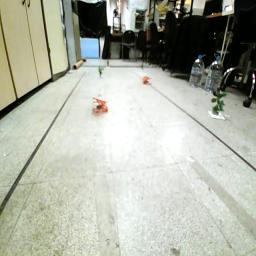herb: (212, 89, 228, 116), (99, 67, 106, 78)
wild: (93, 98, 110, 113), (143, 76, 153, 85)
